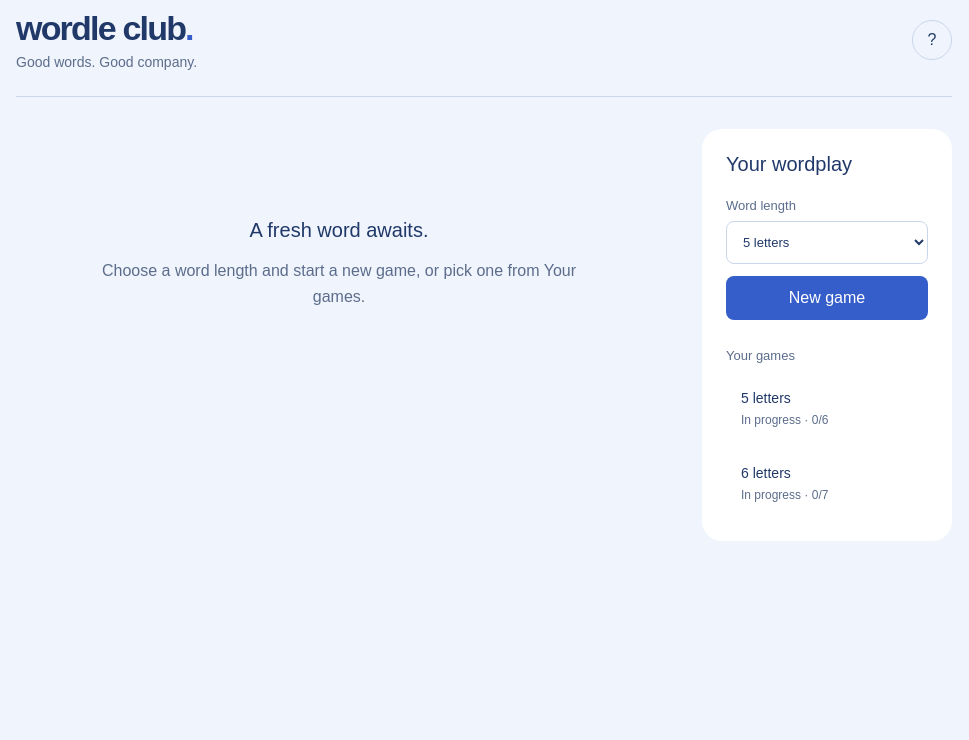
Test: works with blocked storage
The width and height of the screenshot is (969, 740).
Expected: the heading "A fresh word awaits." is shown, [250,219,428,241]
What coordinates should you click on to do the following:
click the button "6 letters In progress · 0/7"
I would click on:
 (827, 484)
Its box is [726,450,928,517].
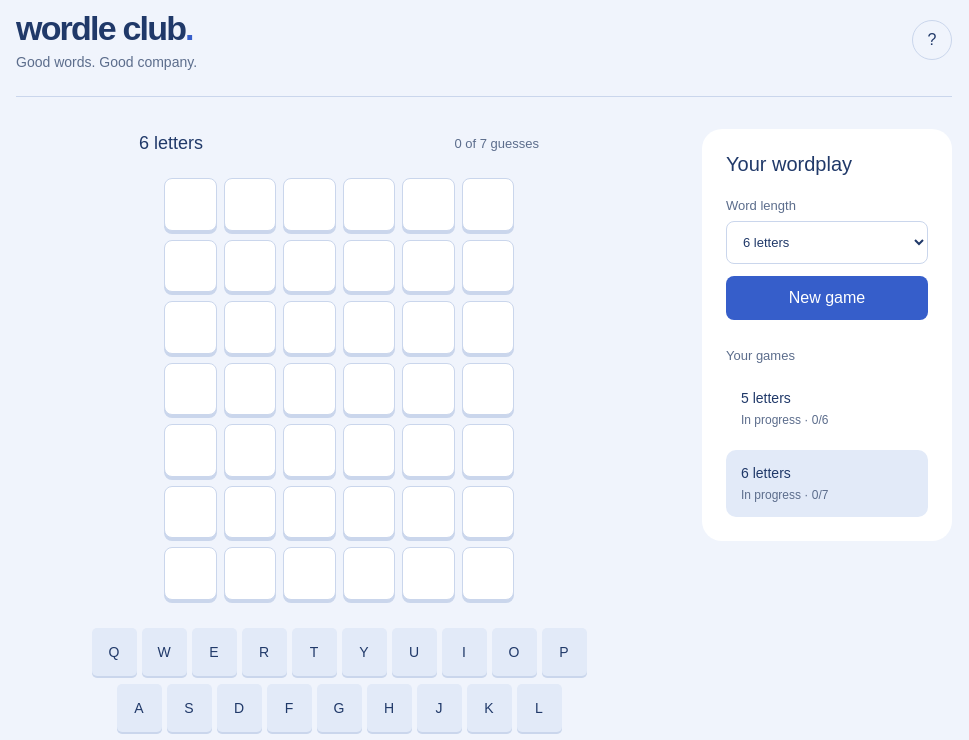
Now the heading "6 letters" is shown, box [139,133,203,154]
